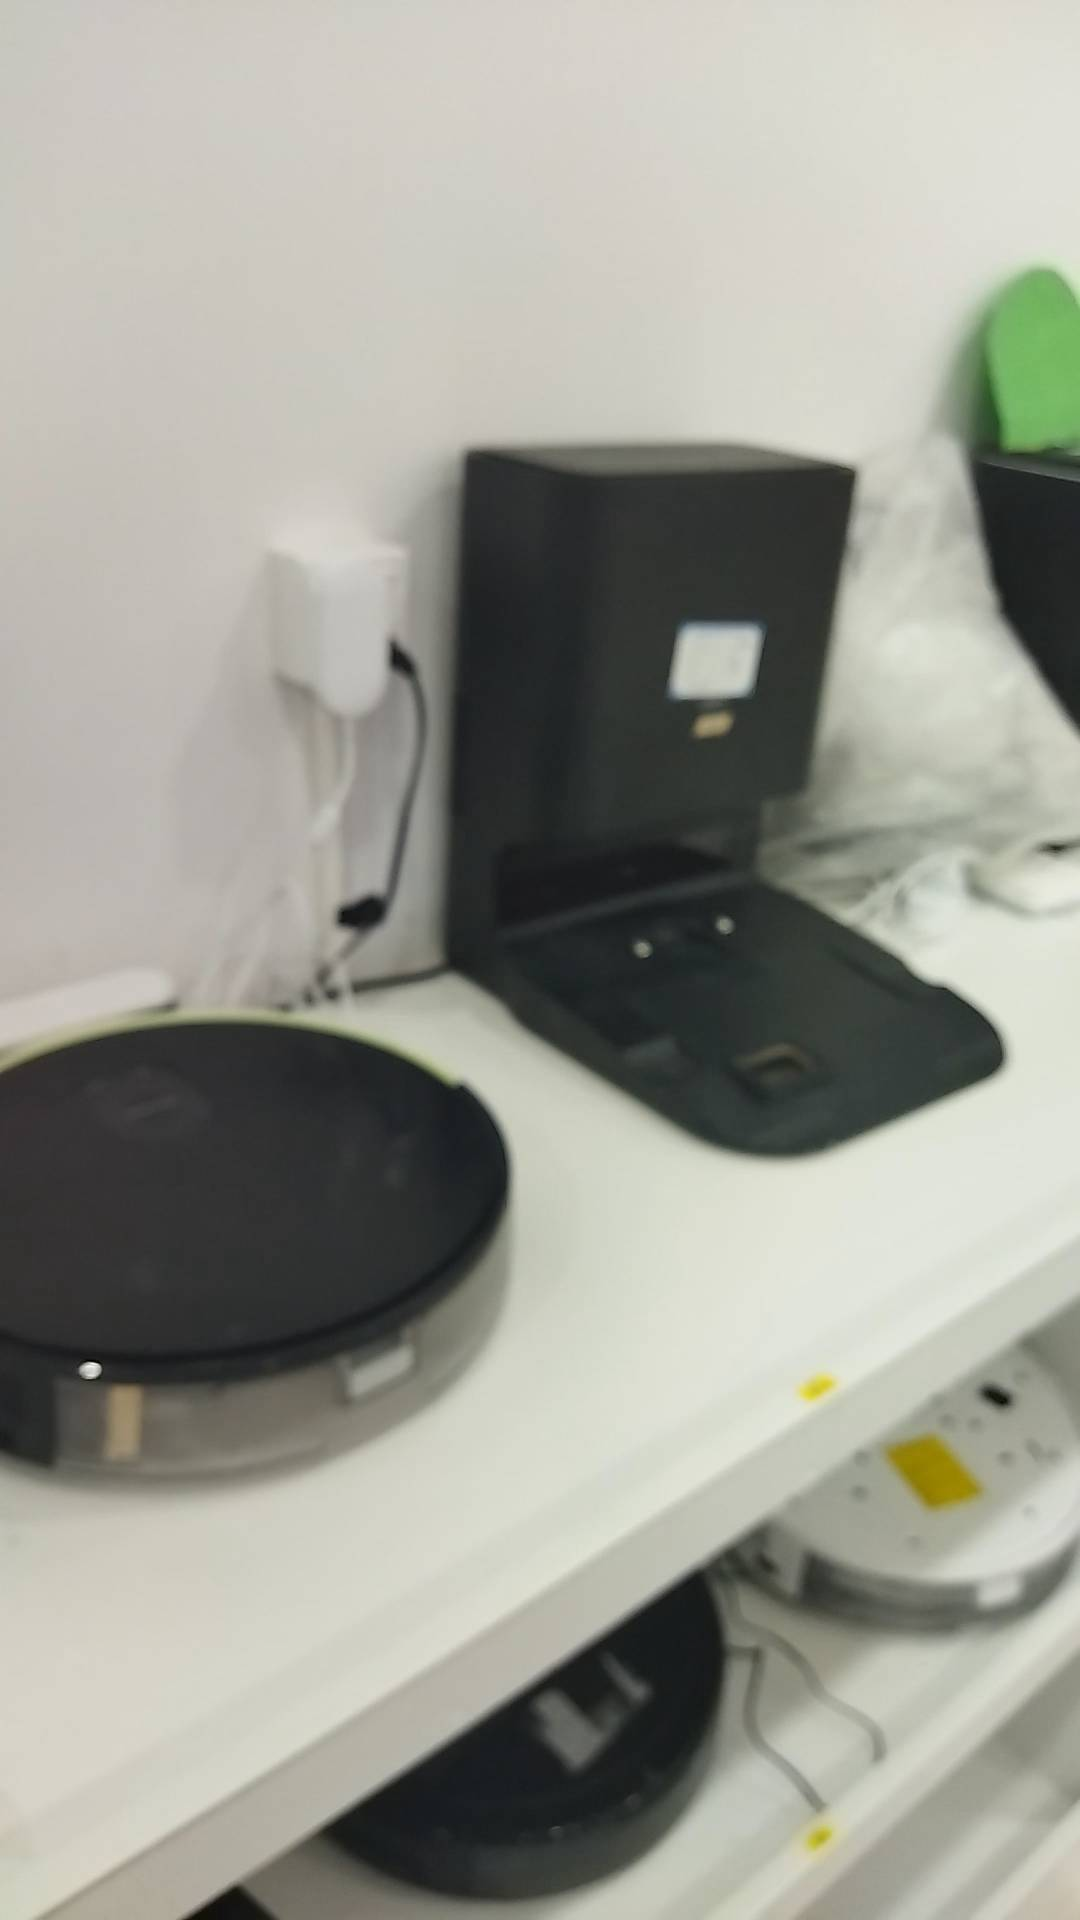dust collecting barrel: (440, 436, 1002, 1156)
